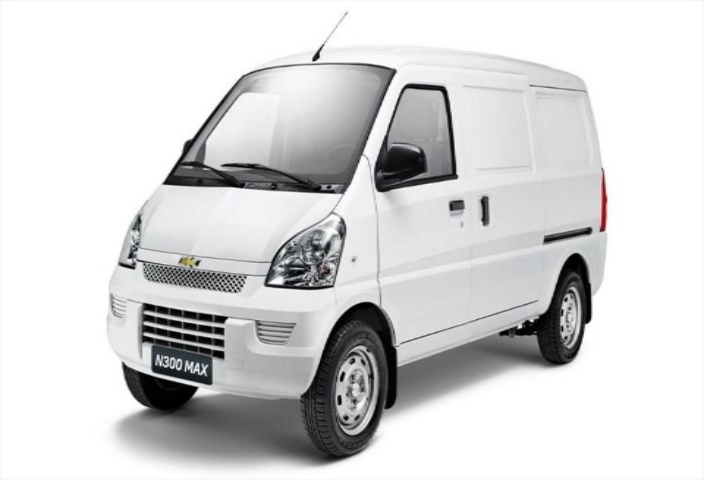van: (81, 37, 632, 460)
